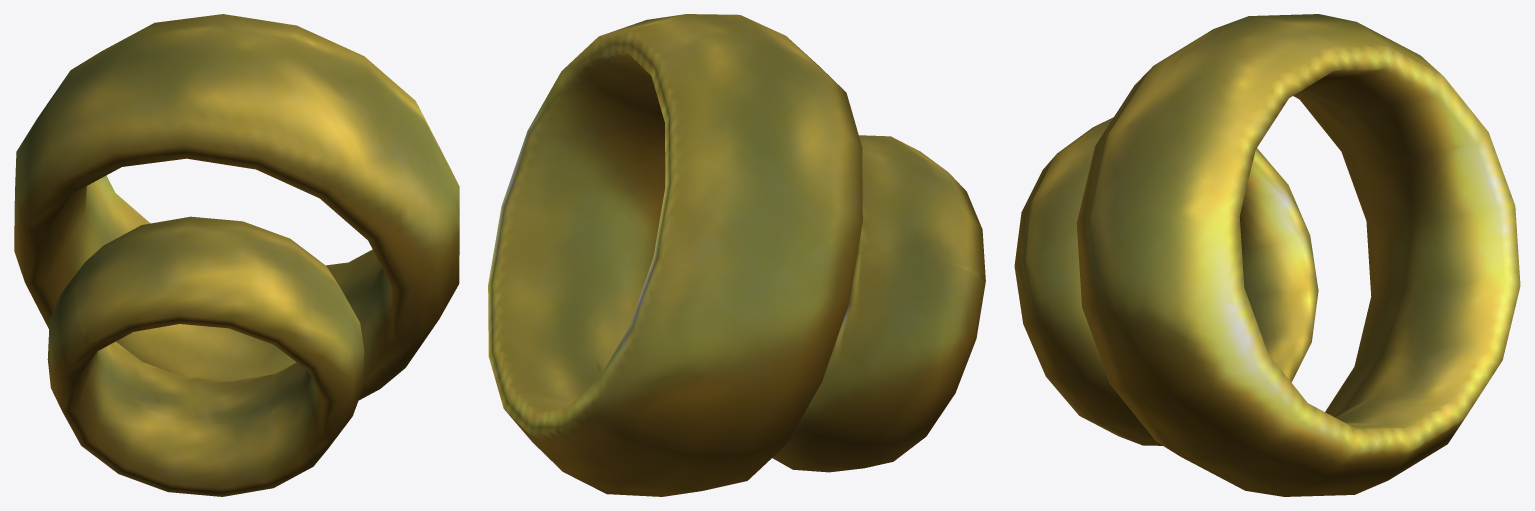
The model's file is sm_dwarf_accessories_09.gltf.
The picture shows the model from 3 angles, left to right: view 1: azimuth 30°, elevation 25°; view 2: azimuth 150°, elevation 25°; view 3: azimuth 270°, elevation 25°; orthographic projection. The views are drawn at different scales.
Visible parts, largest first — view 1: sm_dwarf_accessories_09; view 2: sm_dwarf_accessories_09; view 3: sm_dwarf_accessories_09.
Boxes of the visible parts, x1,y1,x2,y2 form: sm_dwarf_accessories_09: (14,14,459,496); sm_dwarf_accessories_09: (488,14,985,496); sm_dwarf_accessories_09: (1014,14,1520,496).
Bounding box in the file's own units: 3.16 × 3.01 × 3.17.
1 material, 1 textured.
